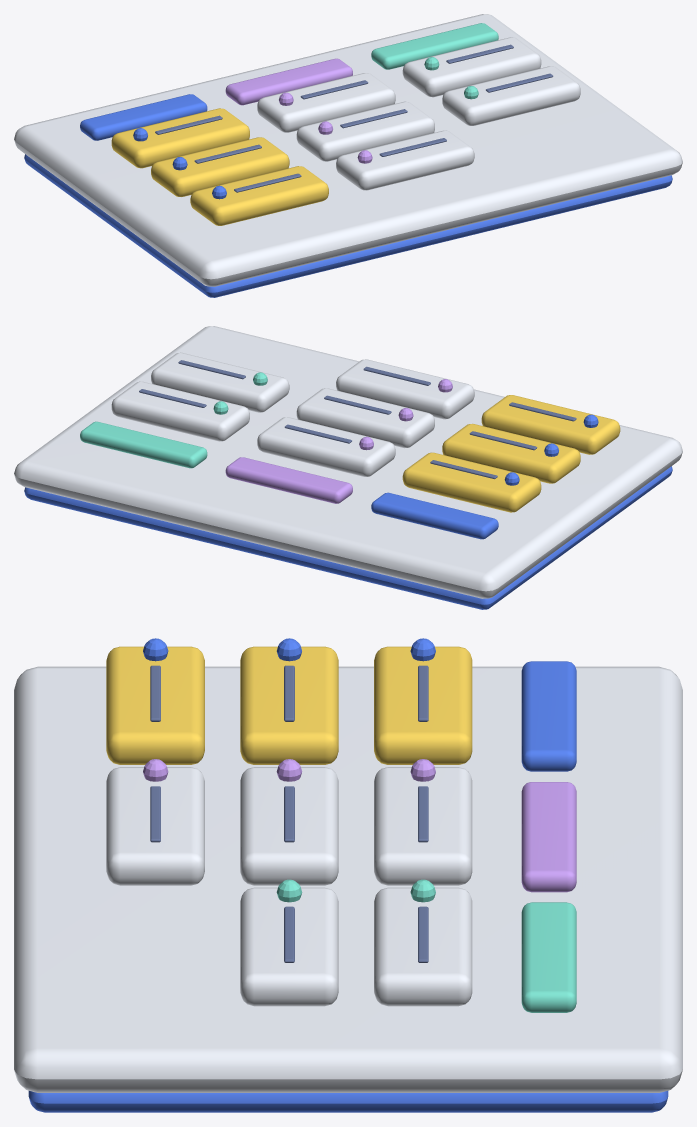
Rendered from tasks.glb.
3 views of the same model, one above another, from view 1: azimuth 30°, elevation 25°; view 2: azimuth 150°, elevation 25°; view 3: azimuth 270°, elevation 25° (orthographic). The views are drawn at different scales.
Visible parts, largest first — view 1: Floating workspace, Blue lower edge, Task card 1-2, Task card 0-2, Task card 2-1, Task card 1-1, Task card 0-0, Task card 2-0, Task card 1-0, Task card 0-1, Column header 0, Column header 1 (+1 smaller); view 2: Floating workspace, Blue lower edge, Task card 0-0, Task card 2-0, Task card 1-0, Task card 0-2, Task card 0-1, Task card 1-2, Task card 2-1, Task card 1-1, Column header 2, Column header 0 (+1 smaller); view 3: Floating workspace, Blue lower edge, Task card 2-0, Task card 1-2, Task card 2-1, Task card 1-0, Task card 0-0, Task card 0-2, Task card 1-1, Task card 0-1, Column header 0, Column header 1 (+1 smaller).
Part boxes in pixels (<box>): Floating workspace: <box>14,14,682,286</box>; Blue lower edge: <box>24,154,672,297</box>; Task card 1-2: <box>336,130,474,190</box>; Task card 0-2: <box>190,166,328,225</box>; Task card 2-1: <box>442,66,580,125</box>; Task card 1-1: <box>296,101,434,161</box>; Task card 0-0: <box>111,108,249,168</box>; Task card 2-0: <box>402,37,541,97</box>; Task card 1-0: <box>257,73,395,132</box>; Task card 0-1: <box>151,137,289,196</box>; Column header 0: <box>80,94,207,140</box>; Column header 1: <box>225,58,352,105</box>; Floating workspace: <box>14,326,682,598</box>; Blue lower edge: <box>24,466,672,609</box>; Task card 0-0: <box>402,452,541,512</box>; Task card 2-0: <box>111,381,249,441</box>; Task card 1-0: <box>257,417,395,476</box>; Task card 0-2: <box>481,395,620,454</box>; Task card 0-1: <box>442,423,580,483</box>; Task card 1-2: <box>336,359,474,419</box>; Task card 2-1: <box>151,352,289,412</box>; Task card 1-1: <box>296,388,434,448</box>; Column header 2: <box>80,421,207,468</box>; Column header 0: <box>371,492,498,539</box>; Floating workspace: <box>14,666,682,1092</box>; Blue lower edge: <box>28,1091,668,1112</box>; Task card 2-0: <box>374,887,472,1006</box>; Task card 1-2: <box>106,767,204,885</box>; Task card 2-1: <box>240,887,338,1006</box>; Task card 1-0: <box>374,767,472,885</box>; Task card 0-0: <box>374,646,472,764</box>; Task card 0-2: <box>106,646,204,764</box>; Task card 1-1: <box>240,767,338,885</box>; Task card 0-1: <box>240,646,338,764</box>; Column header 0: <box>521,661,576,771</box>; Column header 1: <box>521,782,576,892</box>.
Size of the model in its own units: 4.8 by 0.735 by 3.4.
